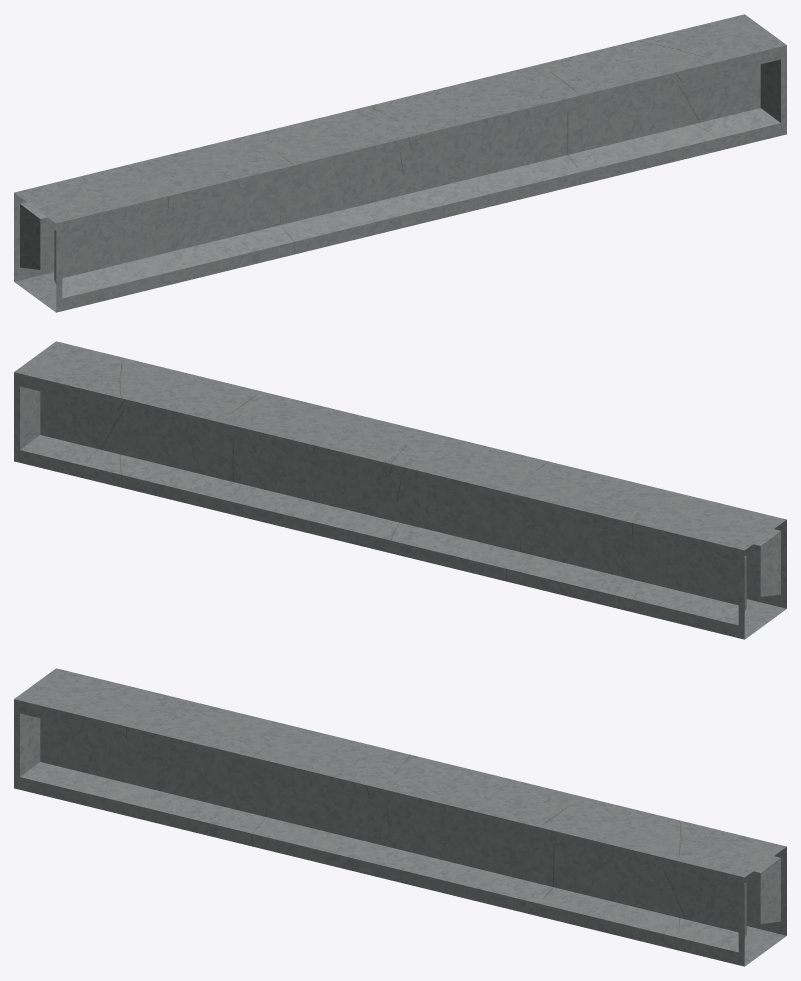
The model's file is warehouse_cranerail.glb.
The picture shows the model from 3 angles, top to bottom: view 1: azimuth 30°, elevation 25°; view 2: azimuth 150°, elevation 25°; view 3: azimuth 330°, elevation 25°; orthographic projection.
Parts seen in each view (by area): view 1: Cube.038; view 2: Cube.038; view 3: Cube.038.
Boxes of the visible parts, x1,y1,x2,y2 form: Cube.038: (14,14,786,312); Cube.038: (14,341,786,639); Cube.038: (14,668,786,966).
Size of the model in its own units: 12 by 1.4 by 1.2.
1 material, 1 textured.
